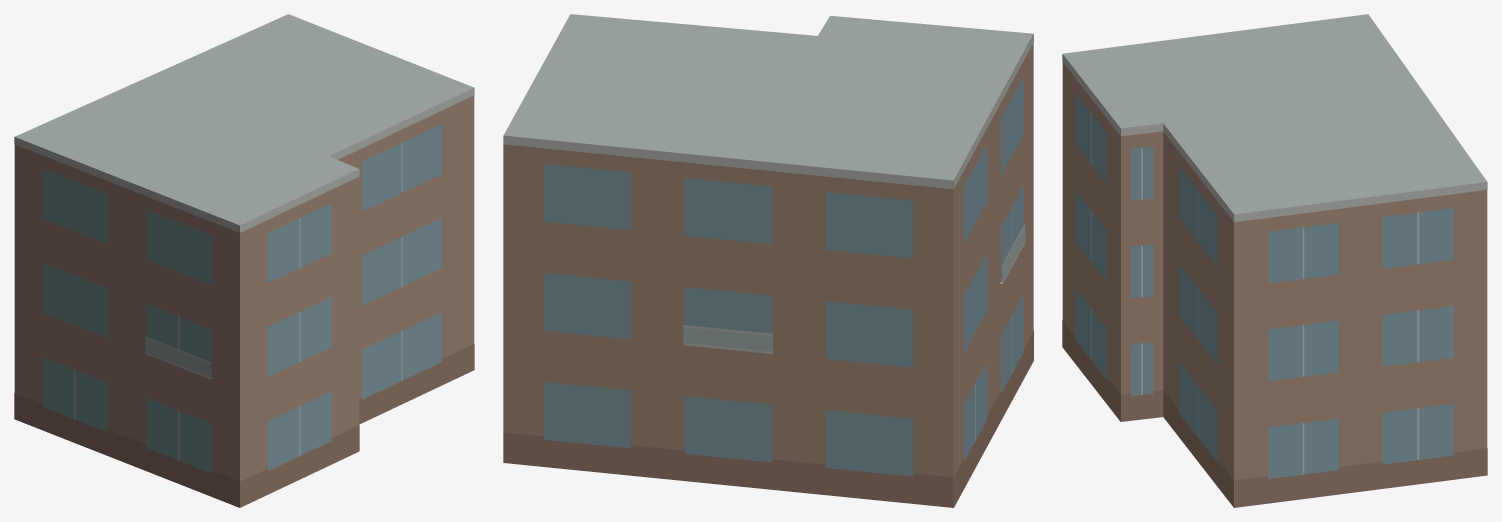
The model's file is survey-upis-32673034.glb.
3 renders of one model, left to right at view 1: azimuth 30°, elevation 25°; view 2: azimuth 150°, elevation 25°; view 3: azimuth 270°, elevation 25°, orthographic. The views are drawn at different scales.
Visible parts, largest first — view 1: survey-upis-32673034.tmp; view 2: survey-upis-32673034.tmp; view 3: survey-upis-32673034.tmp.
Part boxes in pixels (bbox=[...]): survey-upis-32673034.tmp: bbox=[14, 14, 474, 507]; survey-upis-32673034.tmp: bbox=[503, 14, 1033, 507]; survey-upis-32673034.tmp: bbox=[1062, 14, 1487, 507].
Size of the model in its own units: 13.42 by 9.15 by 12.02.
